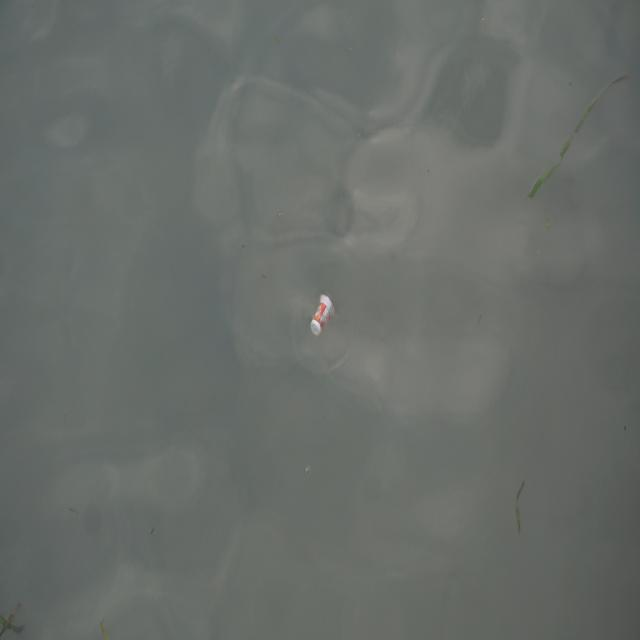Bungkus Minuman: (310, 286, 336, 349)
